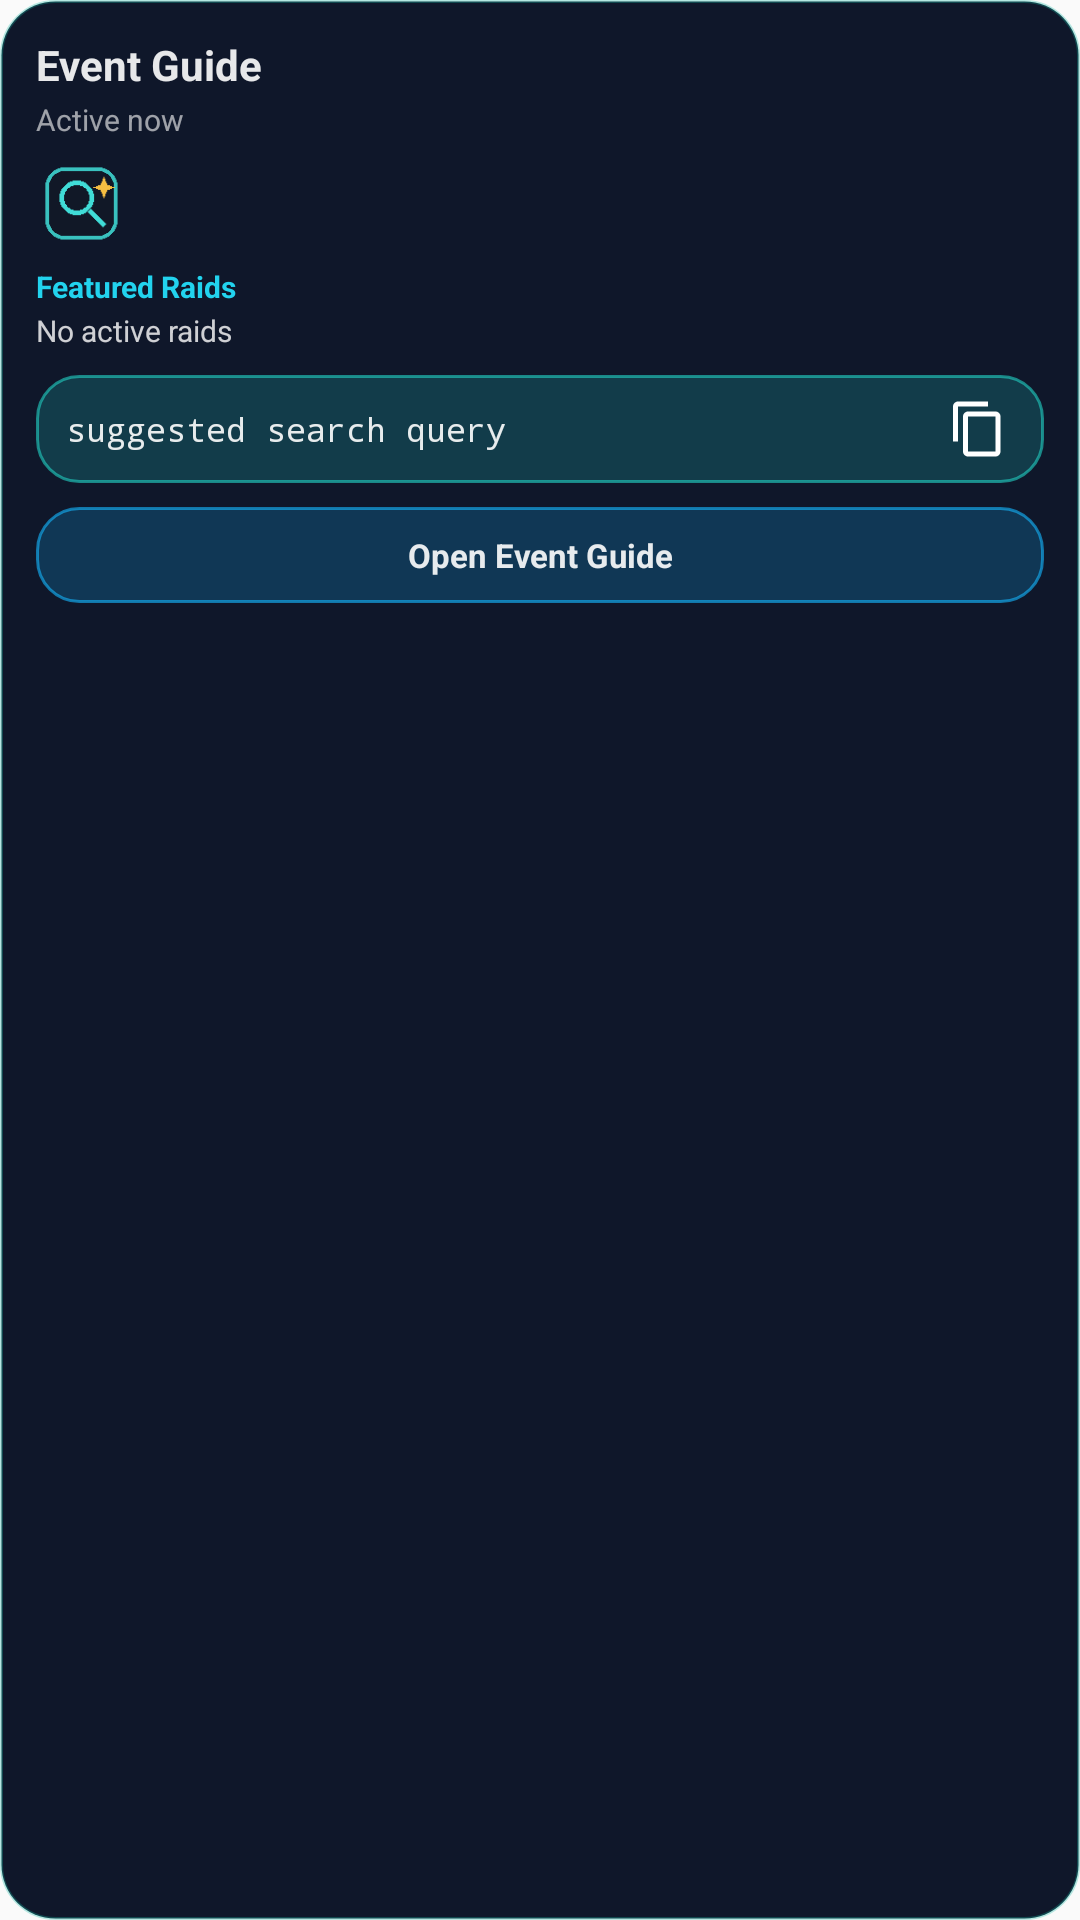

Icon bounding boxes for this 1080x1920 phone screenshot, format (x1, y1, x2, y2):
Copy search: (953, 401, 1001, 457)
